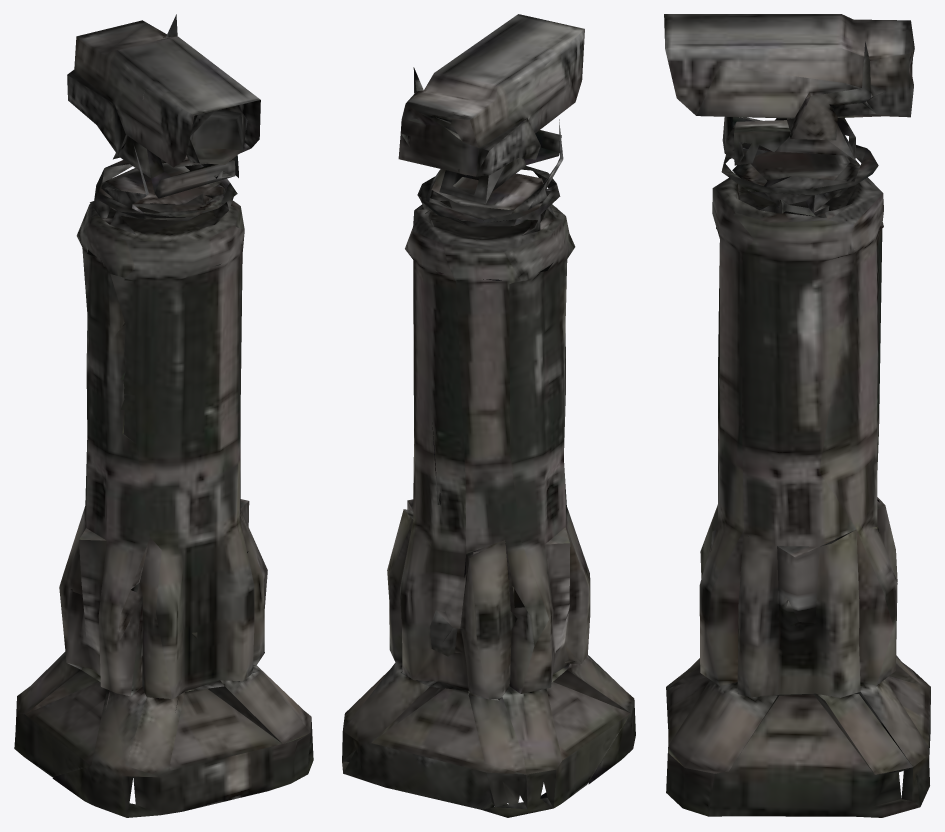
The model's file is floodlight_55650499_lod0.glb.
3 renders of one model, left to right at view 1: azimuth 30°, elevation 25°; view 2: azimuth 150°, elevation 25°; view 3: azimuth 270°, elevation 25°, orthographic. The views are drawn at different scales.
Size of the model in its own units: 1.44 by 4.5 by 1.46.
Materials: 1 (1 with a texture image).
